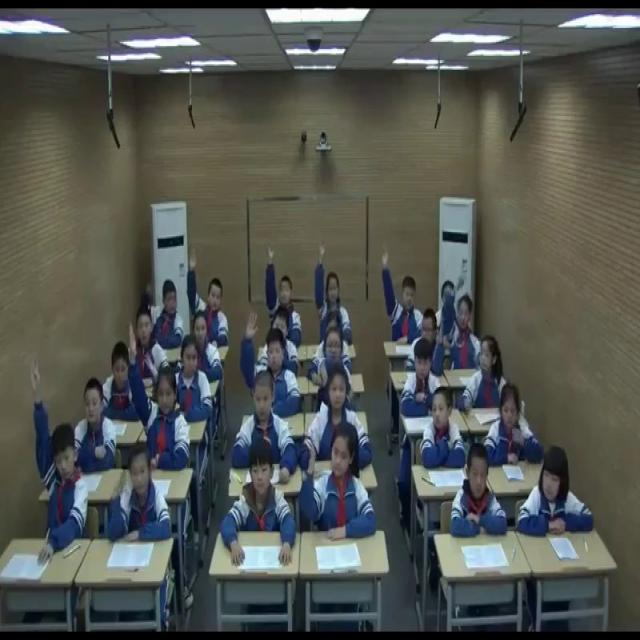focused: (222, 441, 296, 570), (516, 447, 594, 540), (232, 374, 298, 477), (309, 365, 374, 463), (72, 376, 124, 481), (484, 387, 544, 474), (451, 446, 506, 540), (306, 323, 358, 413), (459, 334, 514, 416), (420, 386, 469, 472), (401, 341, 449, 424), (176, 332, 219, 423), (103, 341, 146, 427), (129, 308, 176, 383), (188, 308, 226, 388), (416, 306, 446, 368)
raising_hand: (29, 355, 89, 559), (126, 321, 190, 476), (300, 416, 374, 547), (111, 440, 174, 555), (242, 308, 304, 423), (379, 241, 429, 345), (314, 236, 356, 344), (263, 238, 304, 348), (442, 276, 488, 374), (188, 247, 230, 349), (139, 275, 189, 351)
